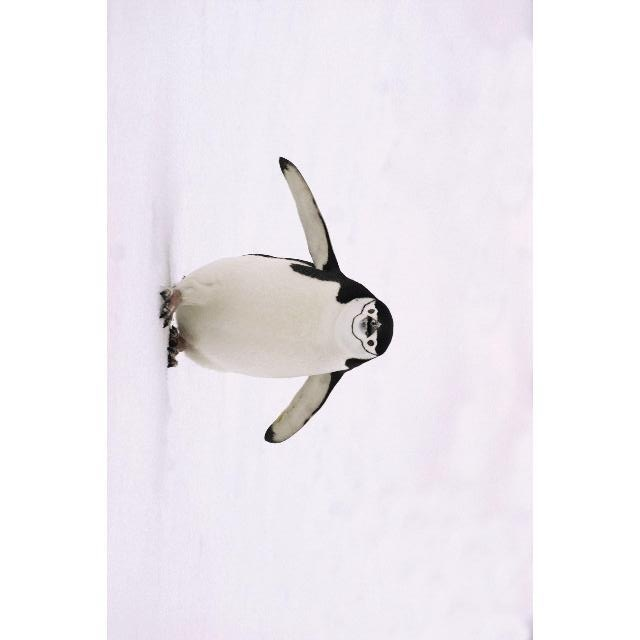penguin: (158, 154, 395, 445)
